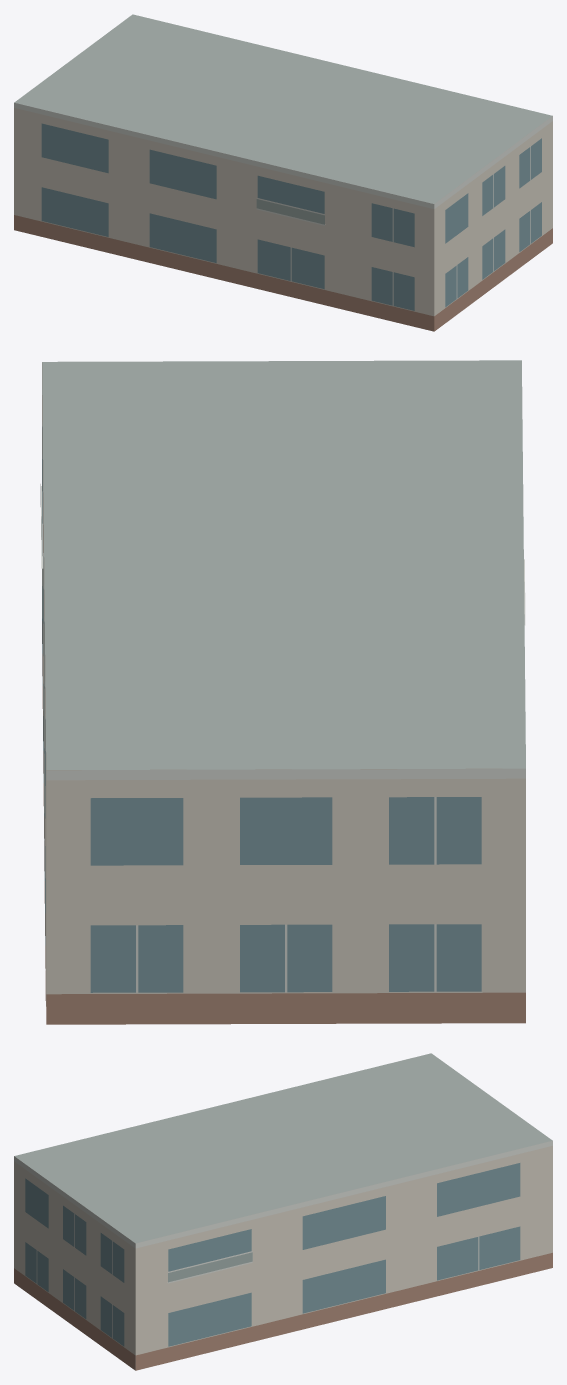
The model's file is survey-upis-32774901.glb.
3 views of the same model, one above another, from view 1: azimuth 30°, elevation 25°; view 2: azimuth 150°, elevation 25°; view 3: azimuth 270°, elevation 25° (orthographic). The views are drawn at different scales.
Parts seen in each view (by area): view 1: survey-upis-32774901.tmp; view 2: survey-upis-32774901.tmp; view 3: survey-upis-32774901.tmp.
Boxes of the visible parts, left/top/right/bottom form: survey-upis-32774901.tmp: left=14, top=14, right=552, bottom=331; survey-upis-32774901.tmp: left=40, top=360, right=525, bottom=1024; survey-upis-32774901.tmp: left=14, top=1053, right=552, bottom=1370.
Size of the model in its own units: 19.57 by 6.1 by 23.42.
